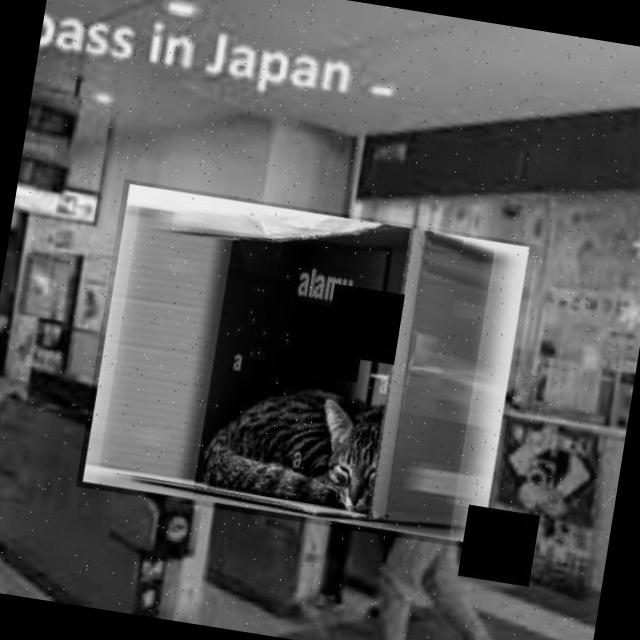box: (75, 179, 538, 552)
